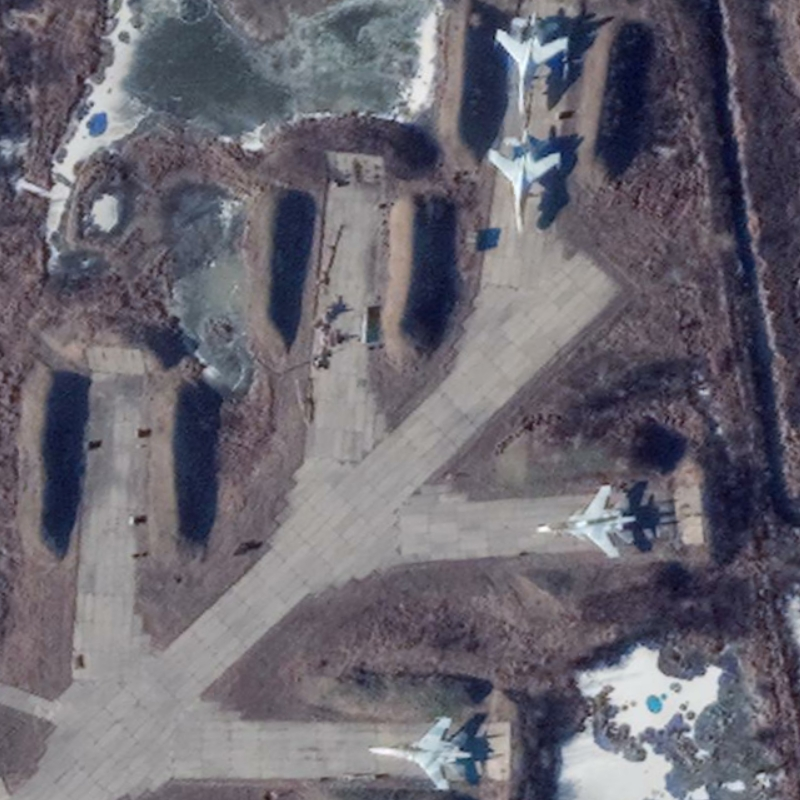A1: (492, 10, 571, 118), (365, 714, 474, 792), (486, 128, 563, 235)
A19: (534, 482, 639, 561)
